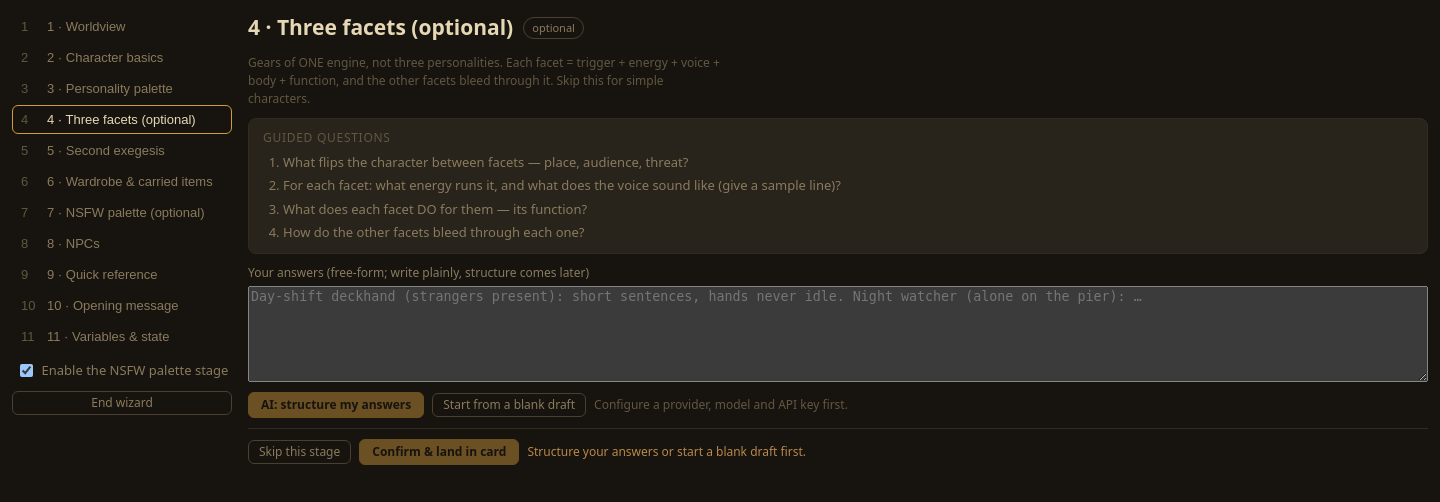
Test: WizardView › skips an optional stage and marks it in the nav
Click the button "Skip this stage" at (300, 452), box [248, 440, 351, 464]
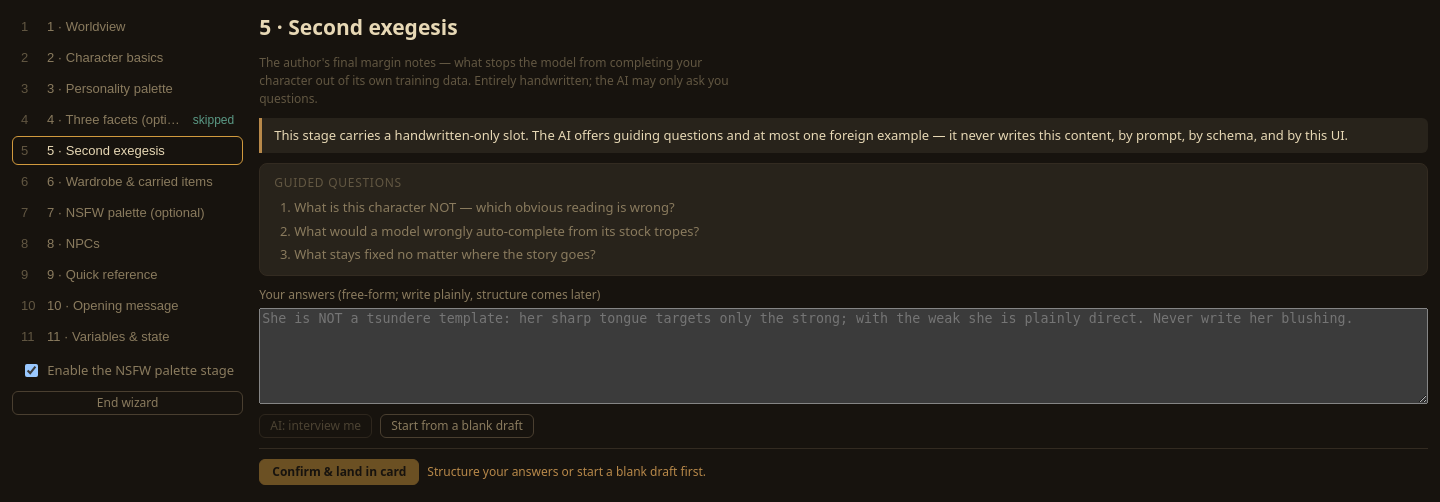
Expected: the text "skipped" is shown, [193, 112, 234, 126]
Expected: the heading "5 · Second exegesis" is shown, [259, 12, 458, 44]
